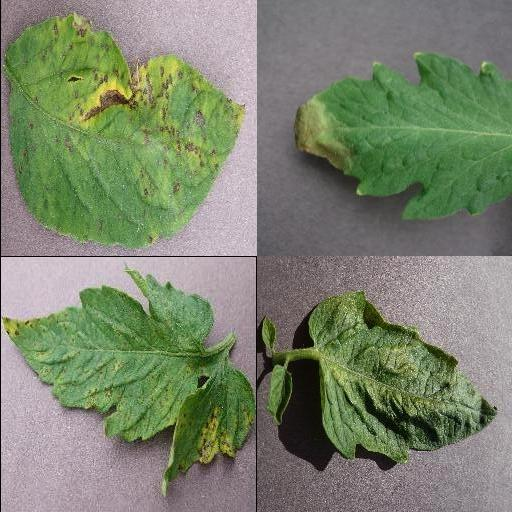Late Blight: (291, 52, 512, 222)
Septoria: (0, 260, 256, 498), (5, 13, 245, 250)
Spider Mites: (309, 291, 497, 463)
